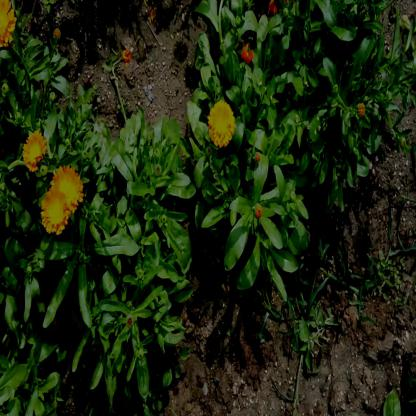marigold: (50, 162, 81, 212), (40, 185, 72, 232), (209, 99, 235, 146), (22, 130, 44, 170)
